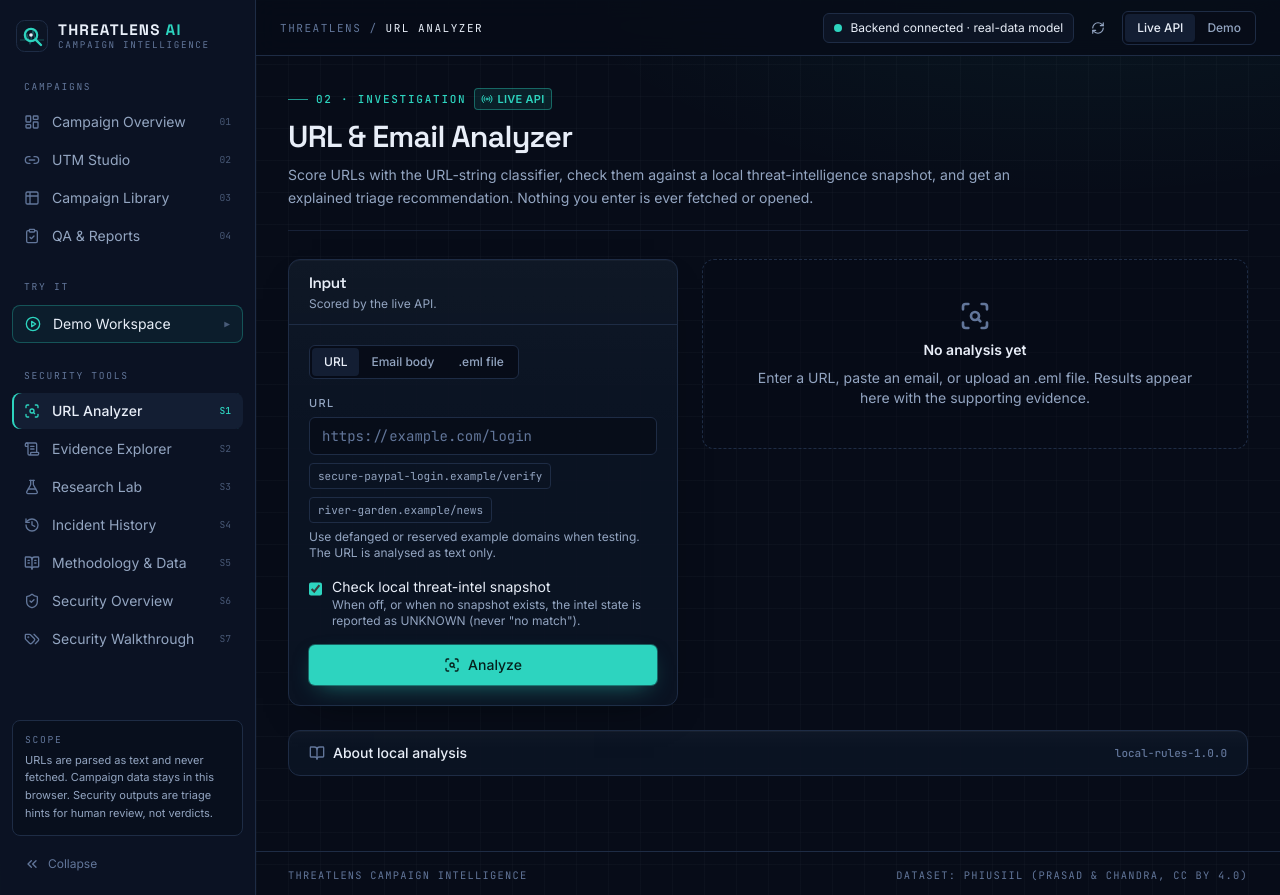
Test: fallback during a request › switches to local rules when the backend down mid-request
Check: the message with test id "mode-pill" shows "Backend connected", box [850,20,1063,34]
Type "http://secure-paypal-login.example/verify/a1b2c3" into the field labelled "URL".
click(483, 436); type("http://secure-paypal-login.example/verify/a1b2c3")  # box [309,417,657,455]
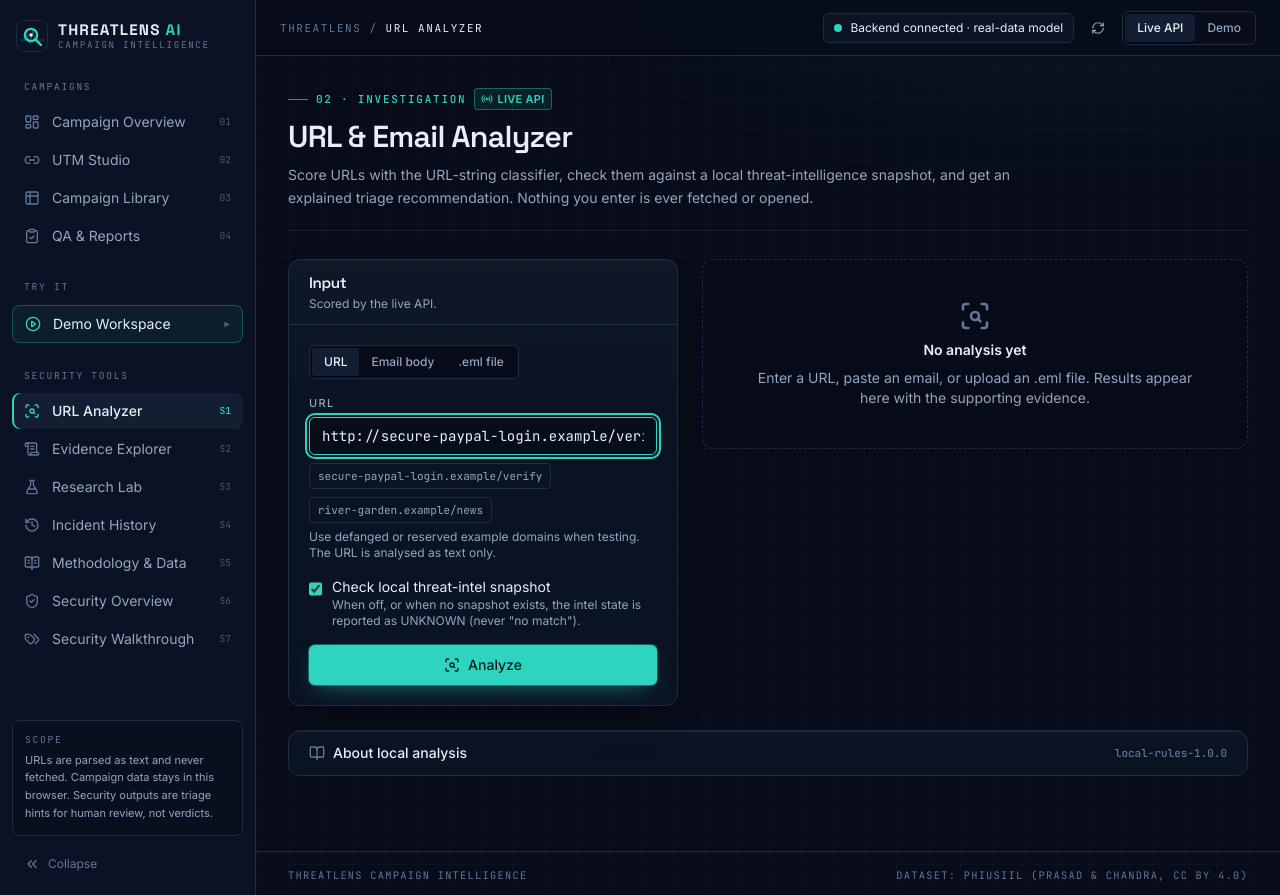
Click the button "Analyze".
click(483, 665)  # box [309,645,657,685]
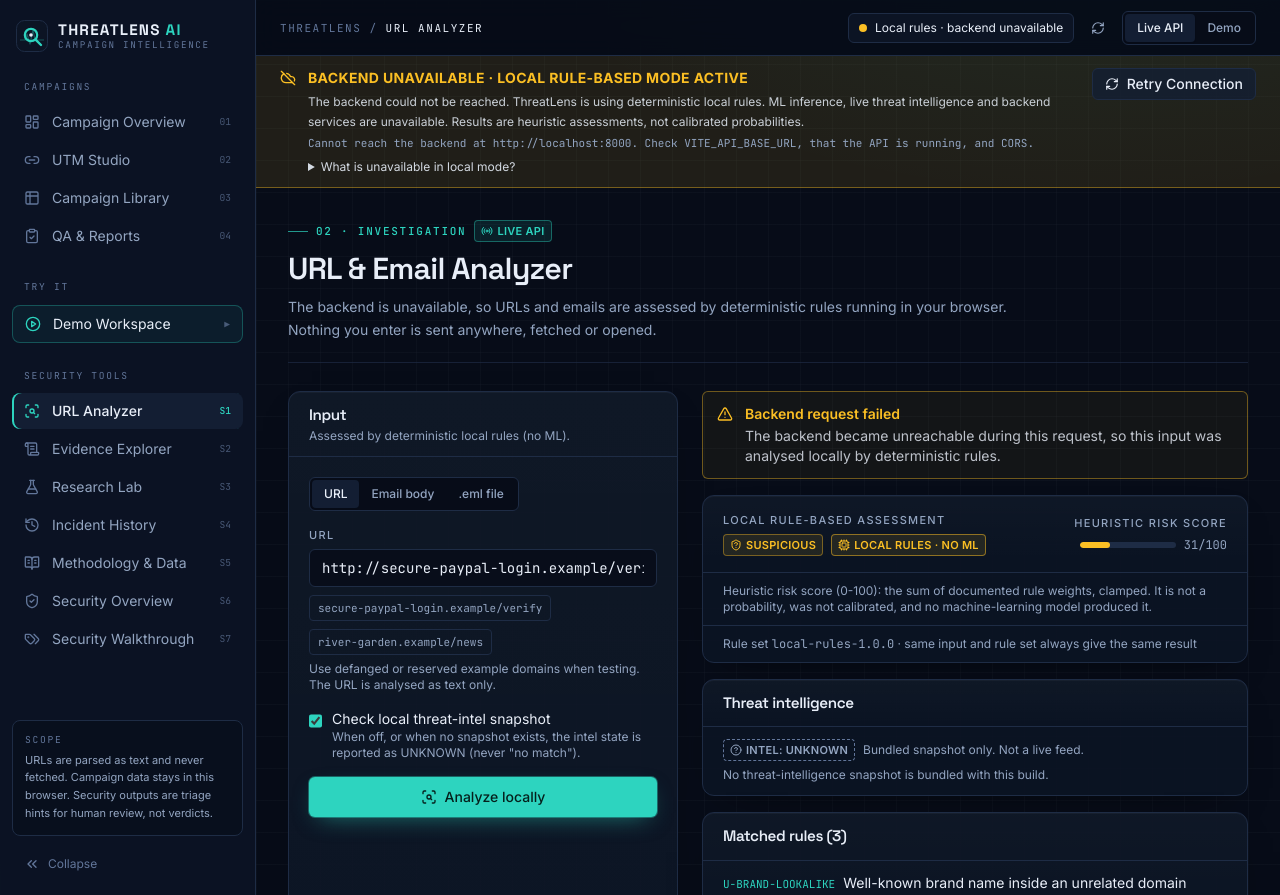
Check: the text "Backend request failed" is shown, box [745,404,900,422]
Check: the message with test id "local-mode-banner" is shown, box [256,56,1279,188]
Check: the message with test id "mode-pill" shows "Local rules", box [875,20,1063,34]
